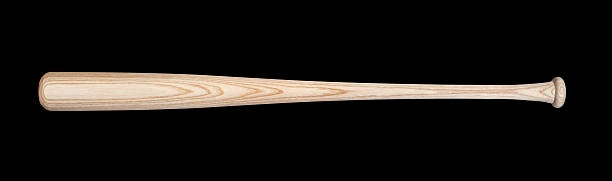bita: (33, 73, 571, 115)
